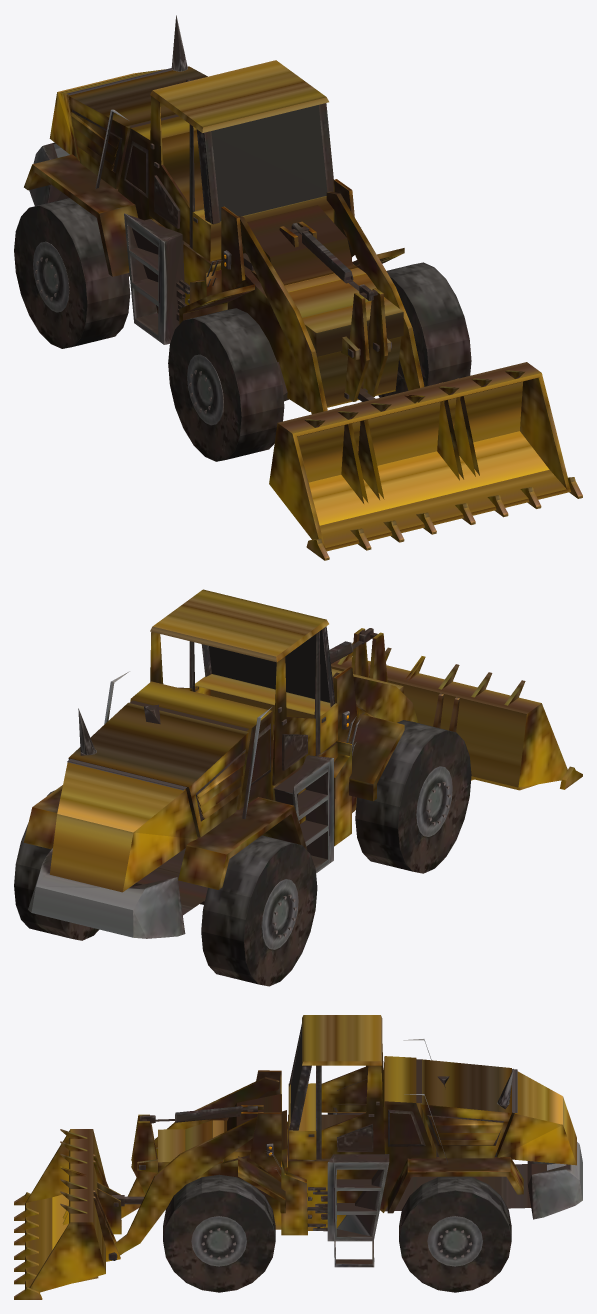
Rendered from bulldozer_lo.glb.
3 views of the same model, one above another, from view 1: azimuth 30°, elevation 25°; view 2: azimuth 150°, elevation 25°; view 3: azimuth 270°, elevation 25° (orthographic). The views are drawn at different scales.
Visible parts, largest first — view 1: BODY, W4, W5, W2, W0, W1; view 2: BODY, W5, W4, W0, W3; view 3: BODY, W2, W3, W1, W0.
Boxes of the visible parts, x1=… form: BODY: x1=24, y1=15, x2=582, y2=560; W4: x1=168, y1=308, x2=284, y2=461; W5: x1=14, y1=198, x2=130, y2=348; W2: x1=378, y1=262, x2=471, y2=397; W0: x1=206, y1=206, x2=327, y2=414; W1: x1=326, y1=179, x2=424, y2=390; BODY: x1=24, y1=589, x2=582, y2=949; W5: x1=201, y1=835, x2=317, y2=986; W4: x1=355, y1=720, x2=471, y2=873; W0: x1=332, y1=666, x2=418, y2=755; W3: x1=14, y1=790, x2=99, y2=940; BODY: x1=14, y1=1015, x2=582, y2=1299; W2: x1=163, y1=1174, x2=275, y2=1292; W3: x1=399, y1=1176, x2=511, y2=1292; W1: x1=108, y1=1112, x2=281, y2=1260; W0: x1=121, y1=1070, x2=281, y2=1218.
Size of the model in its own units: 2.98 by 3.08 by 7.43.
5 materials, 4 textured.
